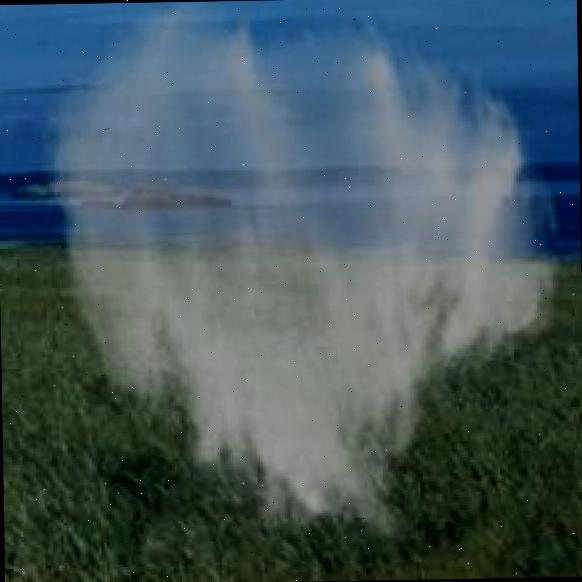smoke: (34, 0, 570, 563)
